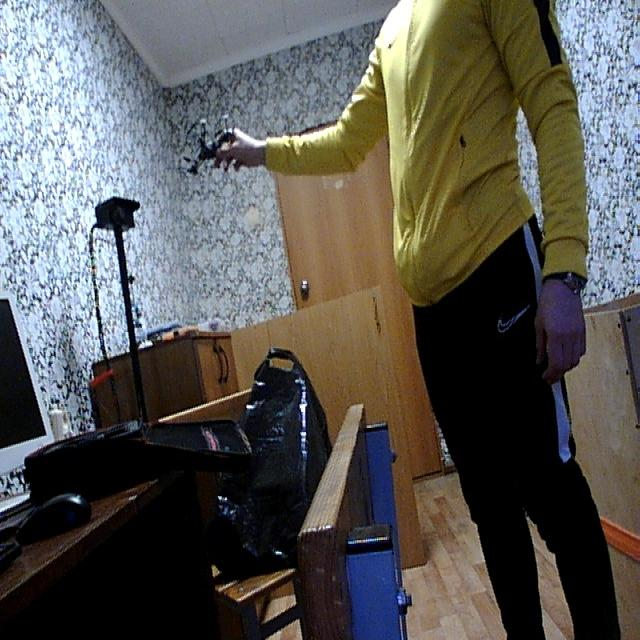drone: (176, 109, 242, 183)
